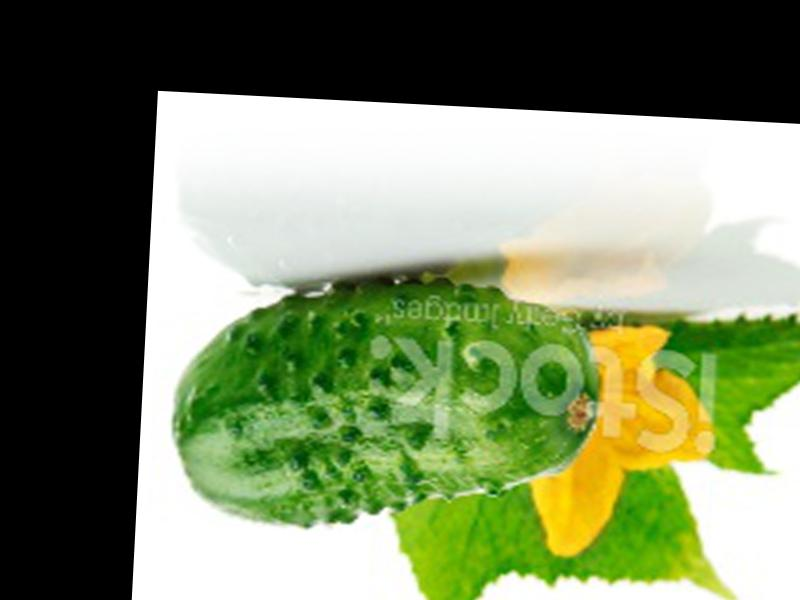Cucumber: (167, 268, 598, 541)
